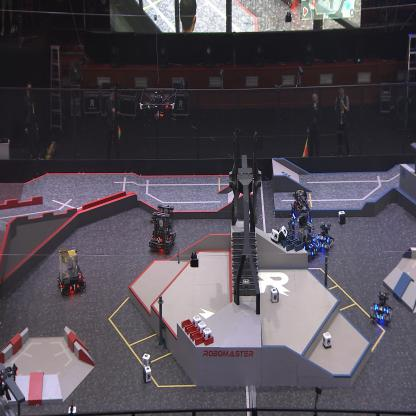car: (56, 245, 87, 294), (148, 202, 176, 255), (293, 212, 319, 261), (289, 188, 314, 234), (370, 290, 393, 324), (315, 222, 335, 246)
